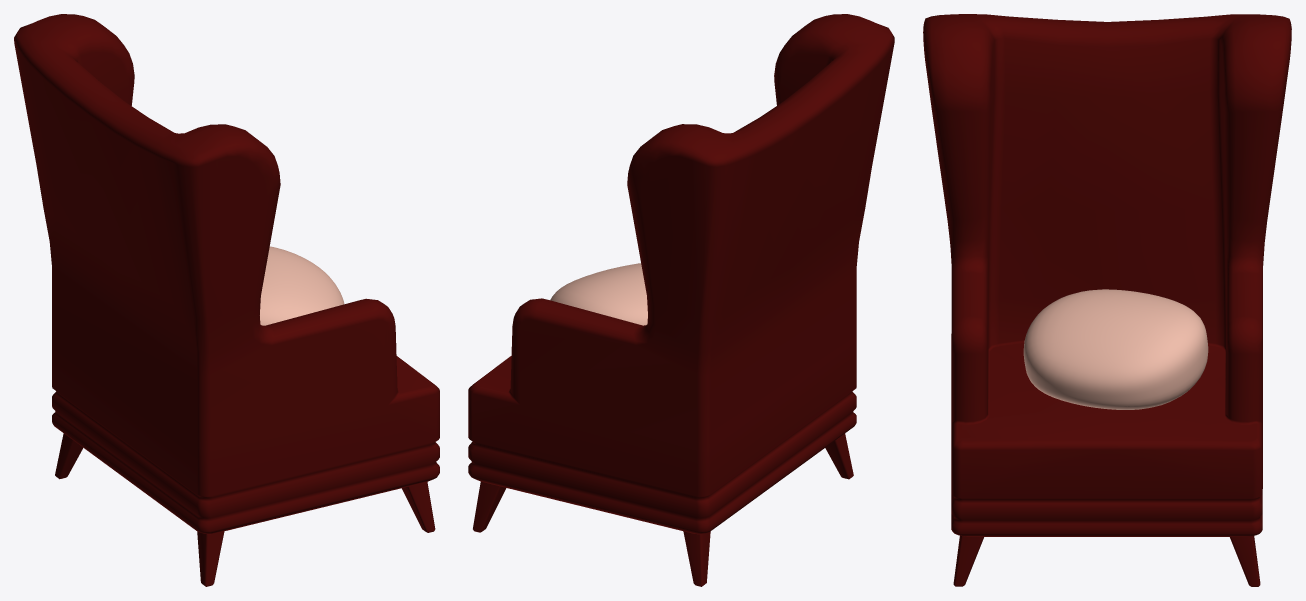
The model's file is fauteuil_coussin.glb.
3 views of the same model, side by side, from view 1: azimuth 30°, elevation 25°; view 2: azimuth 150°, elevation 25°; view 3: azimuth 270°, elevation 25° (orthographic).
Visible parts, largest first — view 1: fauteuil03, coussin; view 2: fauteuil03, coussin; view 3: fauteuil03, coussin.
Boxes of the visible parts, x1,y1,x2,y2 form: fauteuil03: (14, 14, 439, 586); coussin: (260, 246, 344, 325); fauteuil03: (468, 14, 894, 586); coussin: (550, 263, 647, 325); fauteuil03: (923, 14, 1291, 586); coussin: (1023, 289, 1208, 409).
Size of the model in its own units: 0.674 by 1.05 by 0.7713.
